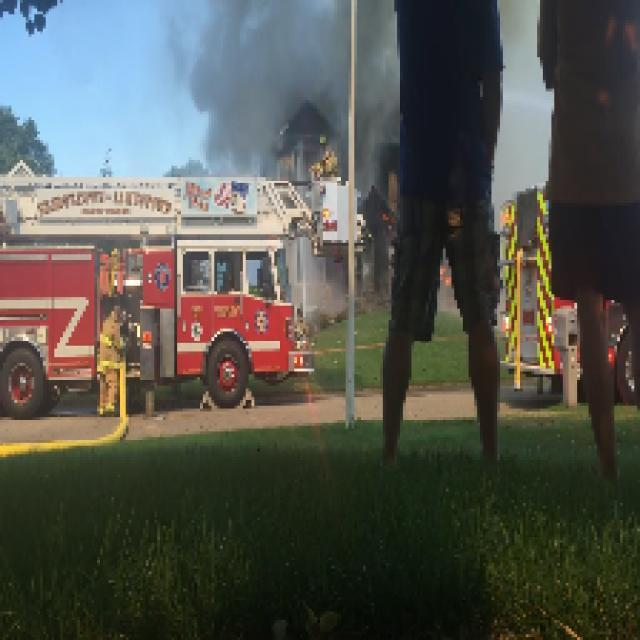Fire: (441, 263, 448, 286)
Smoke: (180, 3, 397, 180)
